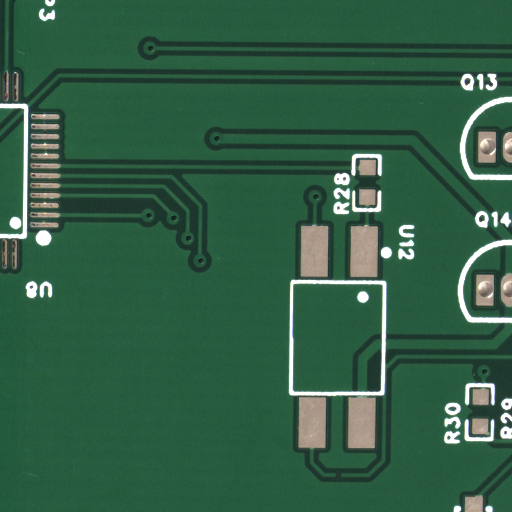Open_circuit: (338, 472, 345, 481)
